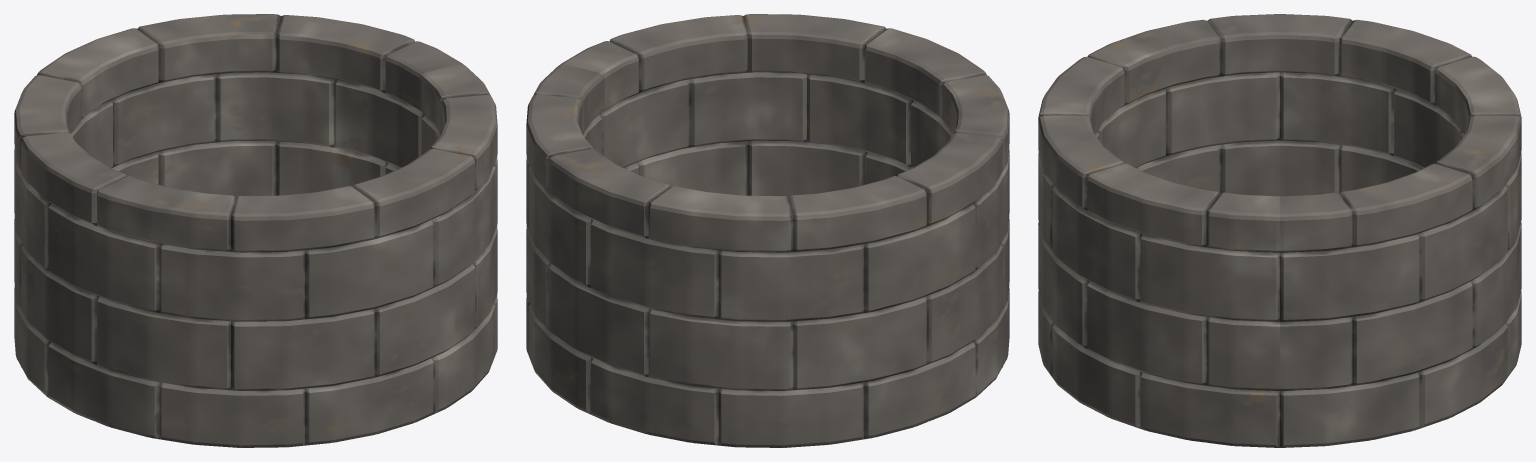
The model's file is Alter1.glb.
The picture shows the model from 3 angles, left to right: view 1: azimuth 30°, elevation 25°; view 2: azimuth 150°, elevation 25°; view 3: azimuth 270°, elevation 25°; orthographic projection.
Parts seen in each view (by area): view 1: AlterLP; view 2: AlterLP; view 3: AlterLP.
Boxes of the visible parts, x1=… form: AlterLP: x1=14, y1=14, x2=497, y2=447; AlterLP: x1=526, y1=14, x2=1009, y2=447; AlterLP: x1=1038, y1=14, x2=1521, y2=447.
Size of the model in its own units: 2 by 1.07 by 2.
1 material, 1 textured.
